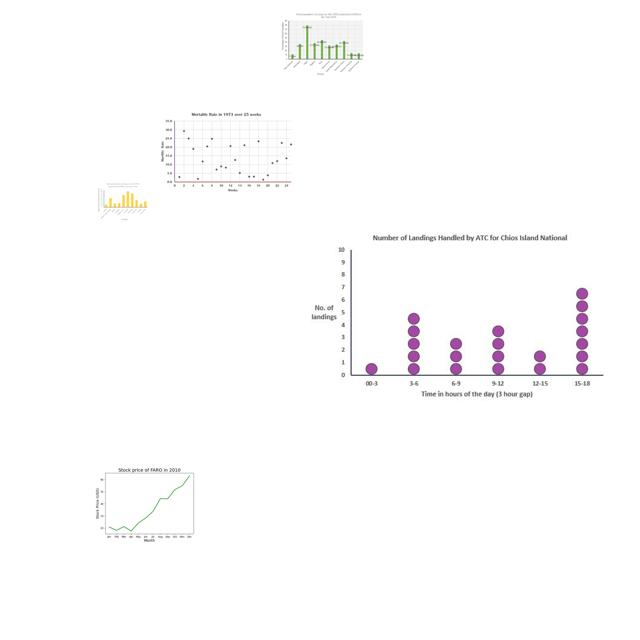Graph: (301, 227, 610, 406), (160, 111, 294, 193), (91, 460, 205, 546), (280, 12, 364, 76), (97, 182, 148, 221)
